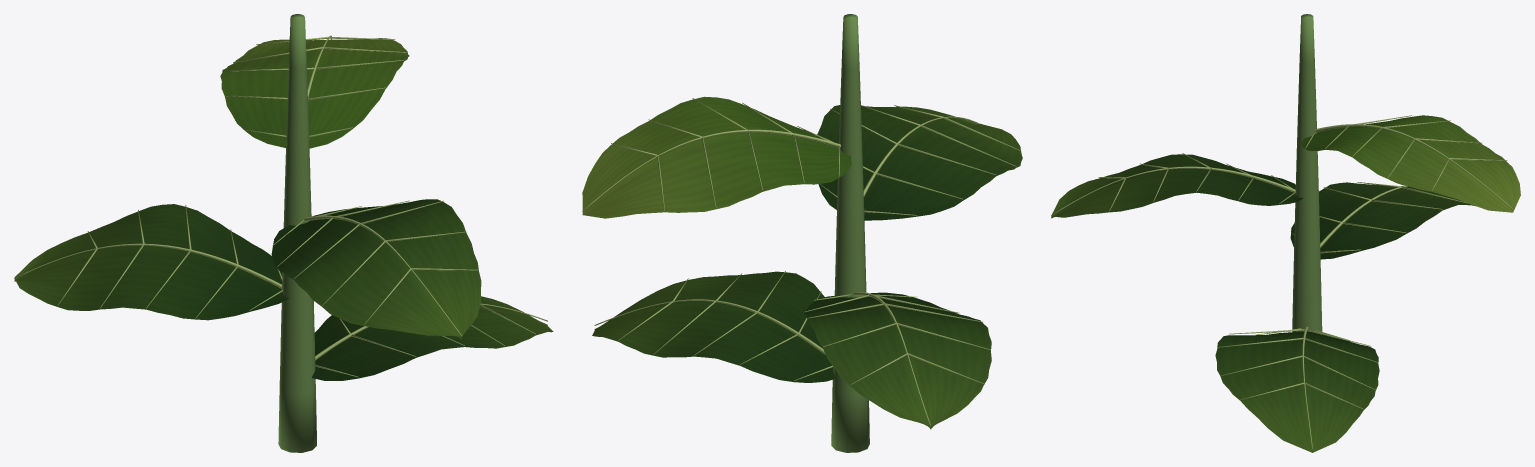
The model's file is poppy-03.glb.
3 renders of one model, left to right at view 1: azimuth 30°, elevation 25°; view 2: azimuth 150°, elevation 25°; view 3: azimuth 270°, elevation 25°, orthographic. The views are drawn at different scales.
Parts seen in each view (by area): view 1: poppy_stage_03_leaf_veins.004, poppy_stage_03_young_leaf.004, poppy_stage_03_stem_fibres.004, poppy_stage_03_raised_midveins.004; view 2: poppy_stage_03_leaf_veins.004, poppy_stage_03_young_leaf.004, poppy_stage_03_stem_fibres.004, poppy_stage_03_raised_midveins.004; view 3: poppy_stage_03_leaf_veins.004, poppy_stage_03_young_leaf.004, poppy_stage_03_stem_fibres.004, poppy_stage_03_raised_midveins.004.
Part boxes in pixels (x1,y1,x2,y2): poppy_stage_03_leaf_veins.004: (14, 199, 553, 380); poppy_stage_03_young_leaf.004: (220, 38, 409, 148); poppy_stage_03_stem_fibres.004: (278, 14, 316, 452); poppy_stage_03_raised_midveins.004: (14, 35, 547, 377); poppy_stage_03_leaf_veins.004: (592, 105, 1022, 429); poppy_stage_03_young_leaf.004: (582, 96, 851, 218); poppy_stage_03_stem_fibres.004: (831, 14, 869, 452); poppy_stage_03_raised_midveins.004: (582, 98, 1020, 426); poppy_stage_03_leaf_veins.004: (1051, 154, 1474, 452); poppy_stage_03_young_leaf.004: (1301, 115, 1520, 212); poppy_stage_03_stem_fibres.004: (1292, 14, 1322, 332); poppy_stage_03_raised_midveins.004: (1051, 115, 1513, 448).
Bounding box in the file's own units: 0.106 × 0.0971 × 0.1099.
Materials: 4 (2 with a texture image).
